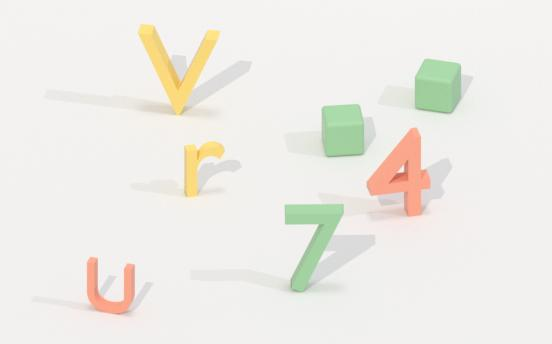4: (359, 124, 438, 218)
7: (277, 200, 352, 295)
R: (179, 142, 234, 198)
hop: (408, 55, 465, 116), (316, 102, 370, 160)
u: (81, 255, 142, 317)
v: (129, 24, 228, 116)
